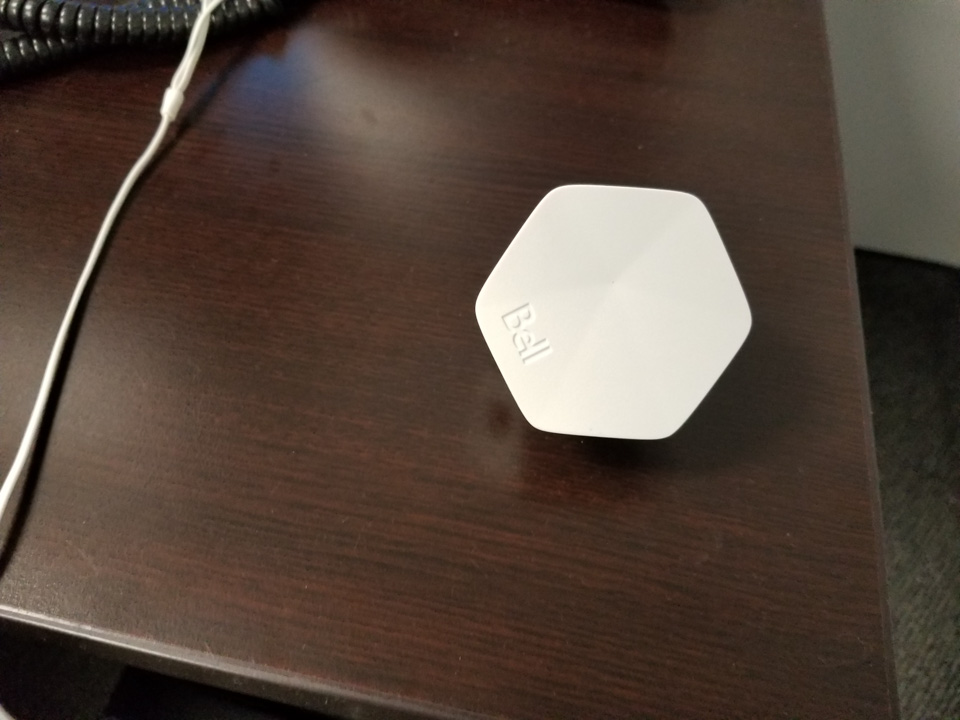pod: (467, 178, 768, 452)
